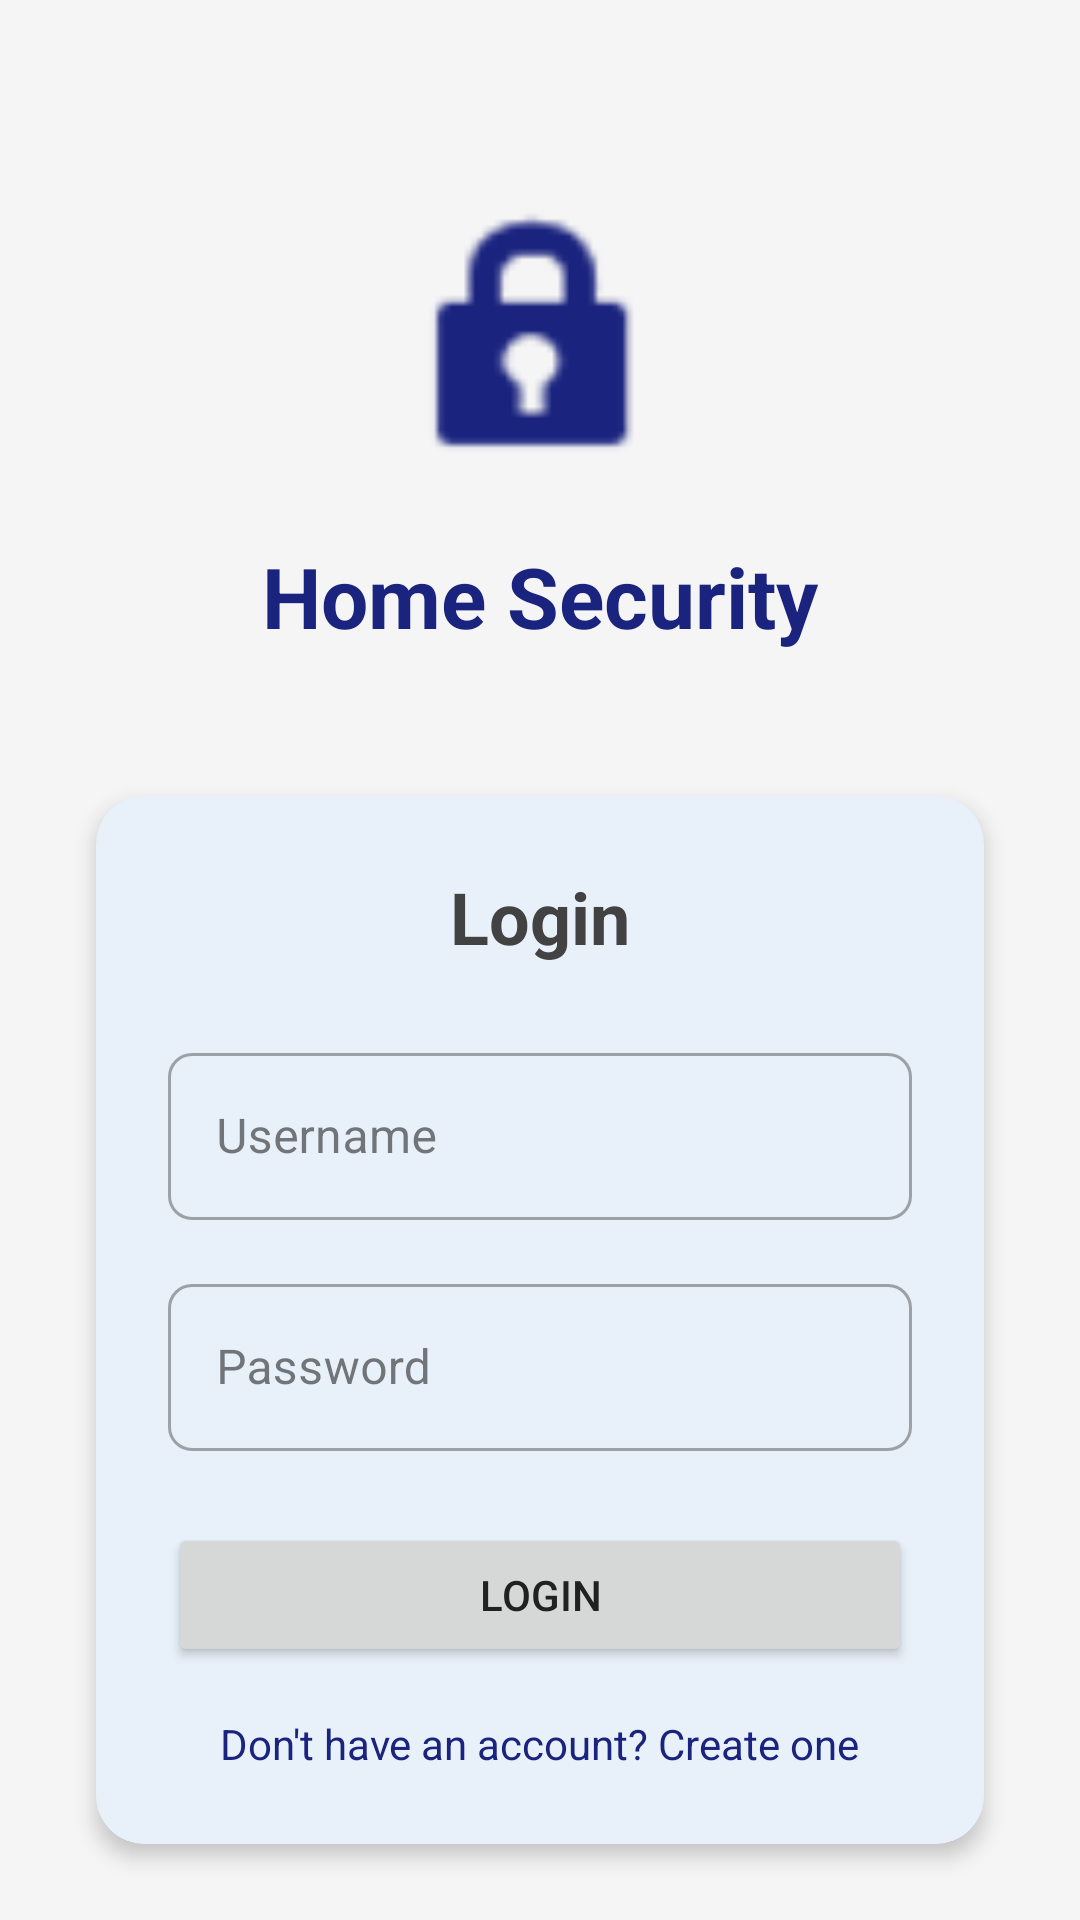

Screen size 1080×1920. Icon name, then its center in pixels as (x=x, y=y):
lock idle: (x=533, y=332)
